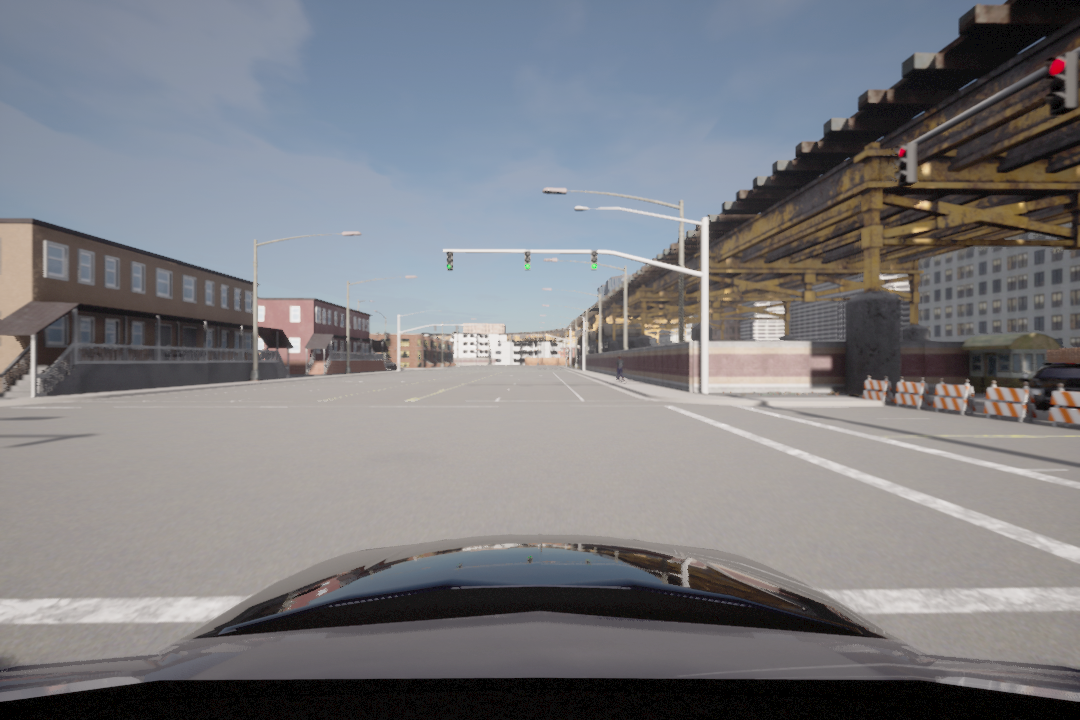TrafficLight: (1045, 49, 1078, 117), (895, 144, 917, 191), (520, 248, 531, 274), (444, 250, 454, 276), (589, 248, 599, 273)
